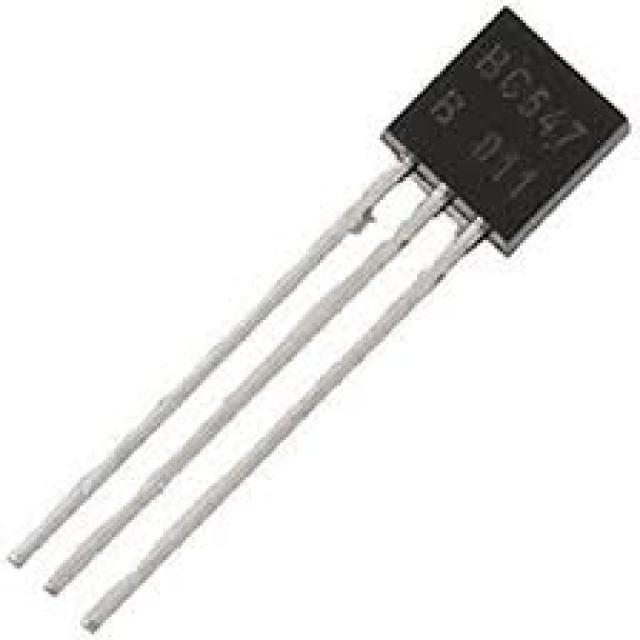Transistor: (21, 8, 612, 629)
